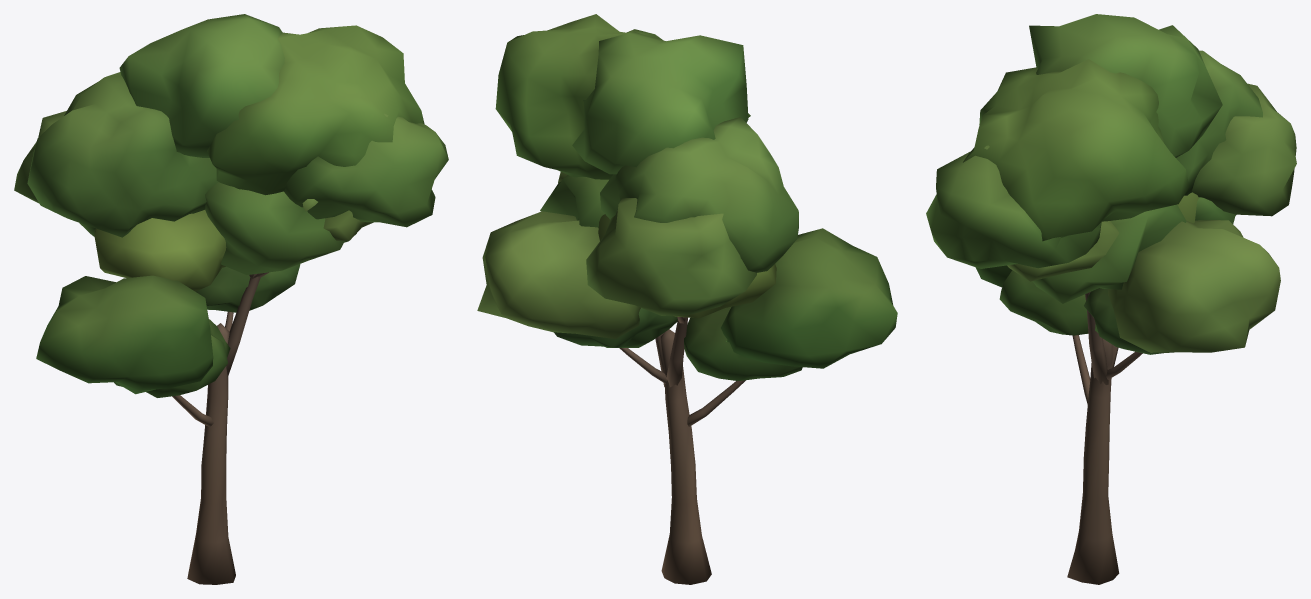
File: young_tree.glb
3 renders of one model, left to right at view 1: azimuth 30°, elevation 25°; view 2: azimuth 150°, elevation 25°; view 3: azimuth 270°, elevation 25°, orthographic. The views are drawn at different scales.
Visible parts, largest first — view 1: YoungTreeLeaves, YoungTree; view 2: YoungTreeLeaves, YoungTree; view 3: YoungTreeLeaves, YoungTree.
Boxes of the visible parts, bbox=[...] form: YoungTreeLeaves: bbox=[14, 14, 448, 397]; YoungTree: bbox=[172, 272, 268, 584]; YoungTreeLeaves: bbox=[477, 14, 897, 380]; YoungTree: bbox=[619, 317, 745, 584]; YoungTreeLeaves: bbox=[926, 14, 1296, 354]; YoungTree: bbox=[1067, 292, 1142, 584].
Bounding box in the file's own units: 2.33 × 3.14 × 1.87.
